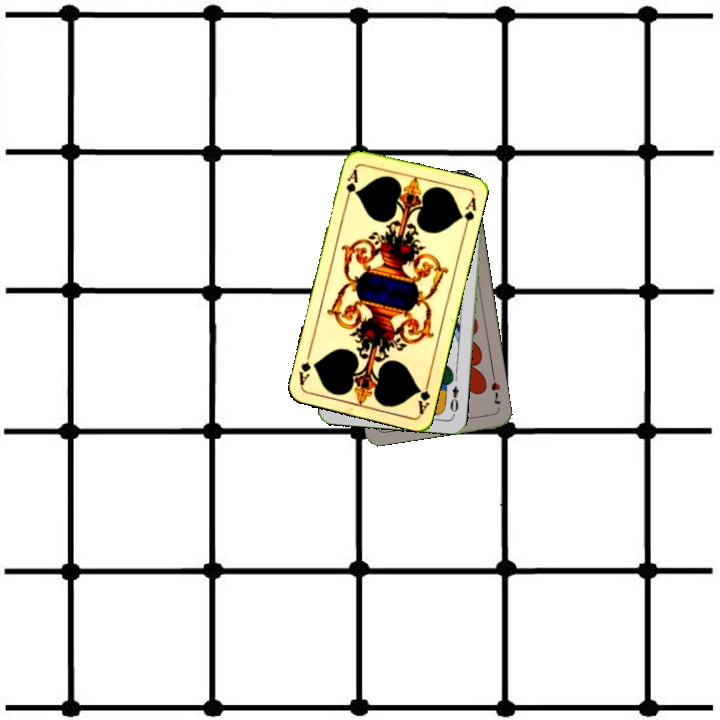EO: (446, 382, 462, 415)
GA: (414, 375, 433, 416), (342, 164, 360, 204)
H7: (487, 378, 503, 407)
